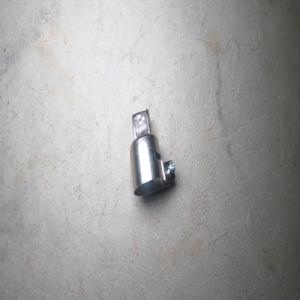MetalPart: (129, 107, 175, 196)
